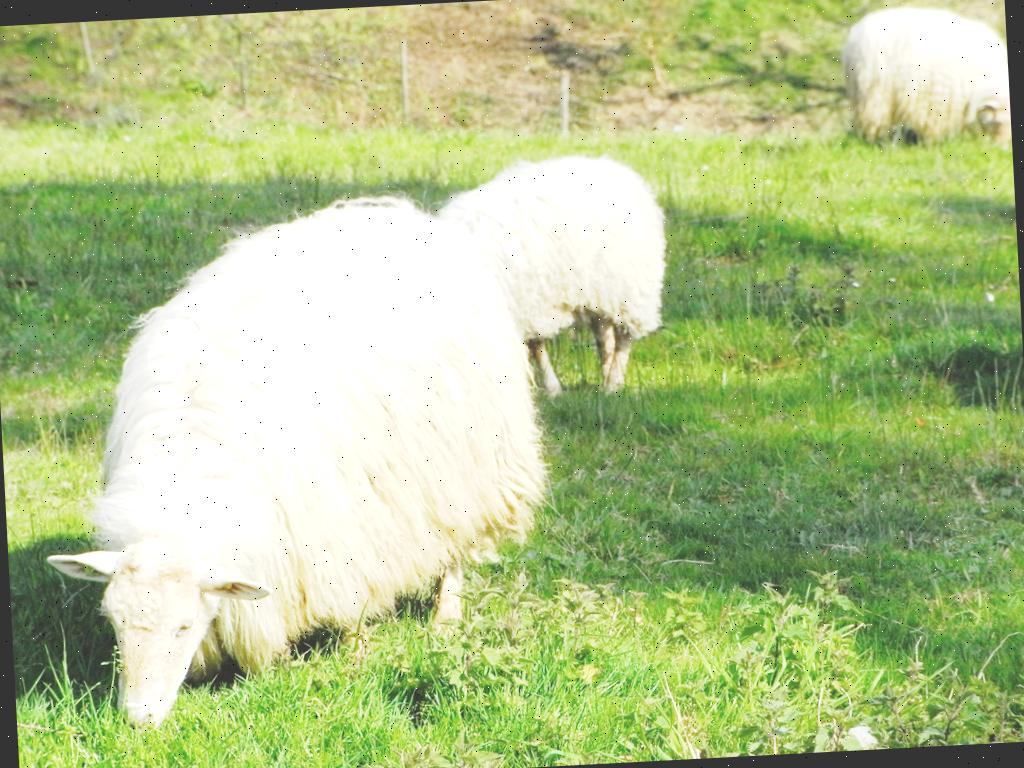Sheep: (30, 190, 562, 736), (432, 150, 674, 400), (840, 3, 1011, 143)
